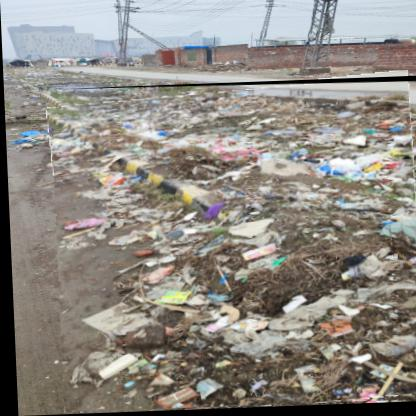Garbage: (50, 79, 416, 415)
